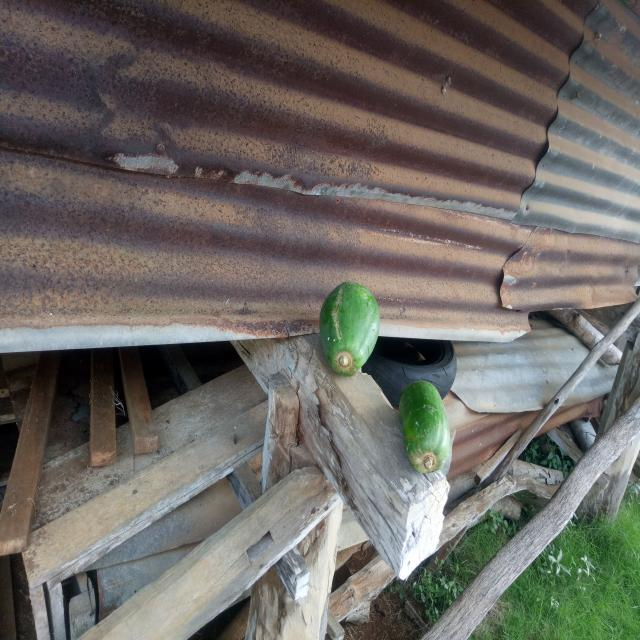Pepaya unrippen: (309, 265, 387, 385), (396, 368, 454, 484)
